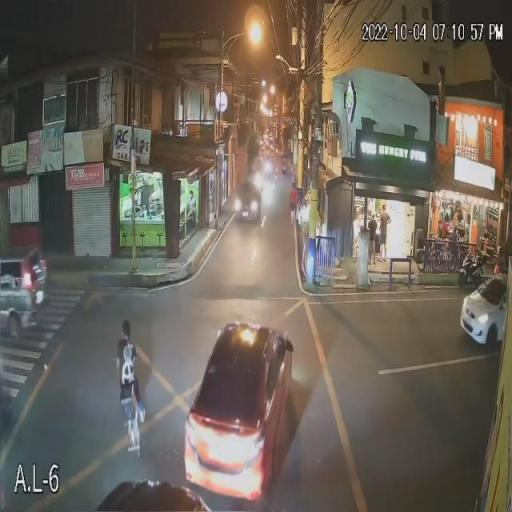motorcycle: (114, 352, 148, 462), (461, 248, 491, 290)
rider: (113, 337, 149, 429)
